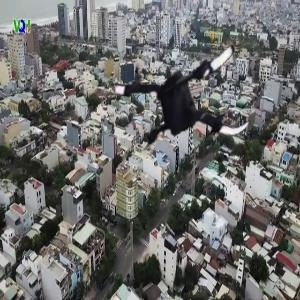drone: (101, 22, 258, 179)
